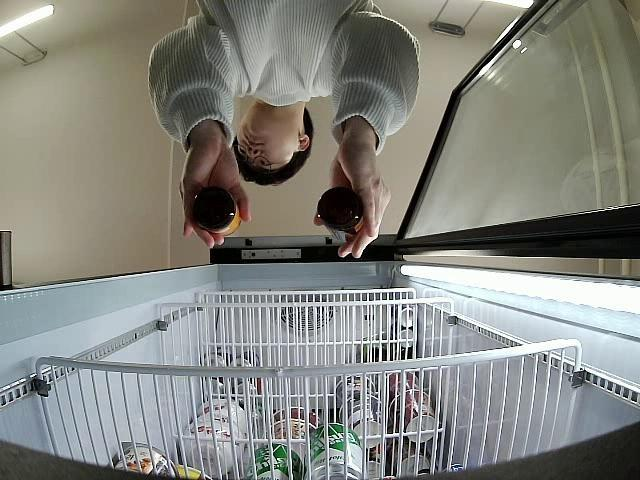17_vita500: (319, 185, 366, 244), (192, 186, 242, 237)
